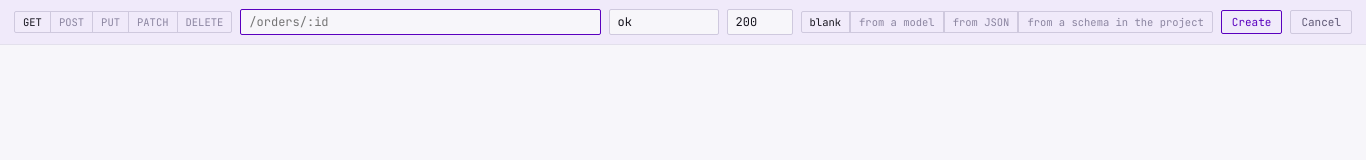
Test: CreateEndpointRow › refuses a status that is not a code, in words the developer can act on
Type "/test" into the field named "path".
click(420, 22); type("/test")  # box [240,9,600,35]
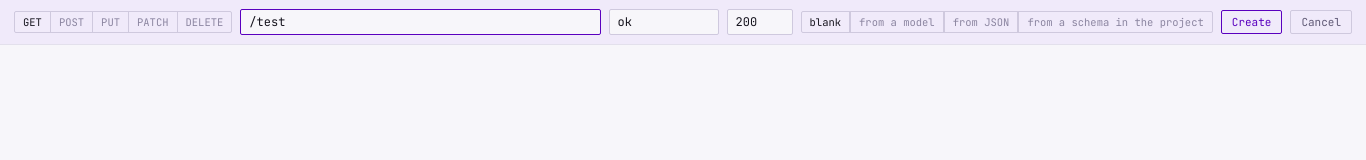
Replace the text in the dropdown named "status" with "201e44" at (760, 22), box [727,9,793,35]
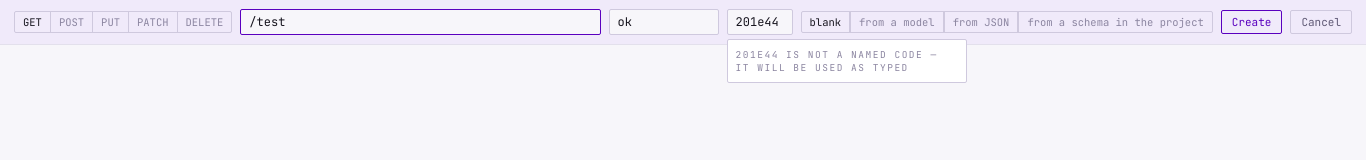
Click the button "Create".
click(1252, 22)  # box [1221,10,1282,34]
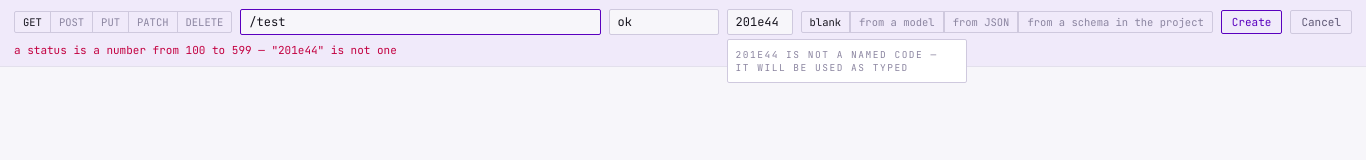
Check: the message shows "100", box [14,43,397,57]
Check: the message shows "599", box [14,43,397,57]
Check: the message shows "201e44", box [14,43,397,57]
